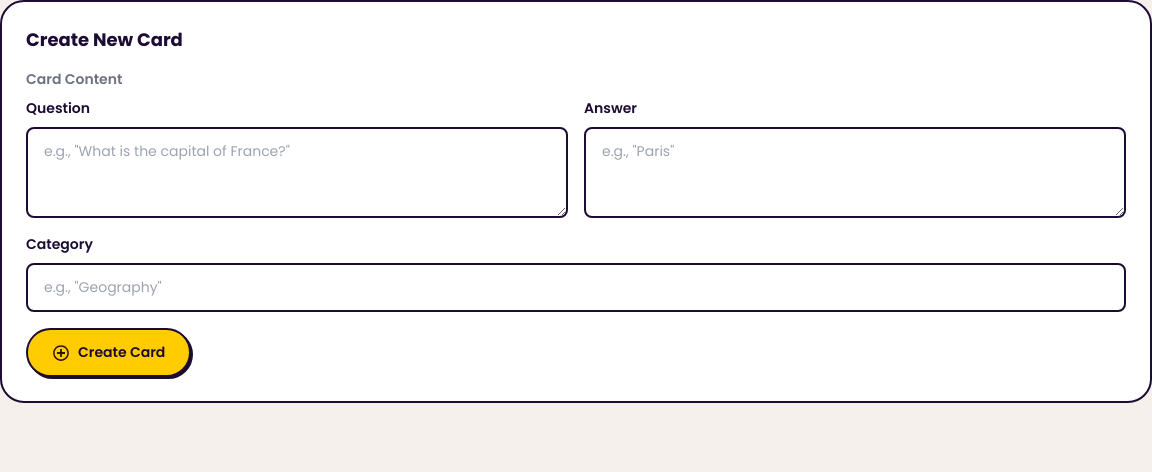
Test: CreateCardForm › shows validation errors when submitting empty form
The width and height of the screenshot is (1152, 472).
Click the button "Create Card": (109, 352) [26, 328, 191, 377]
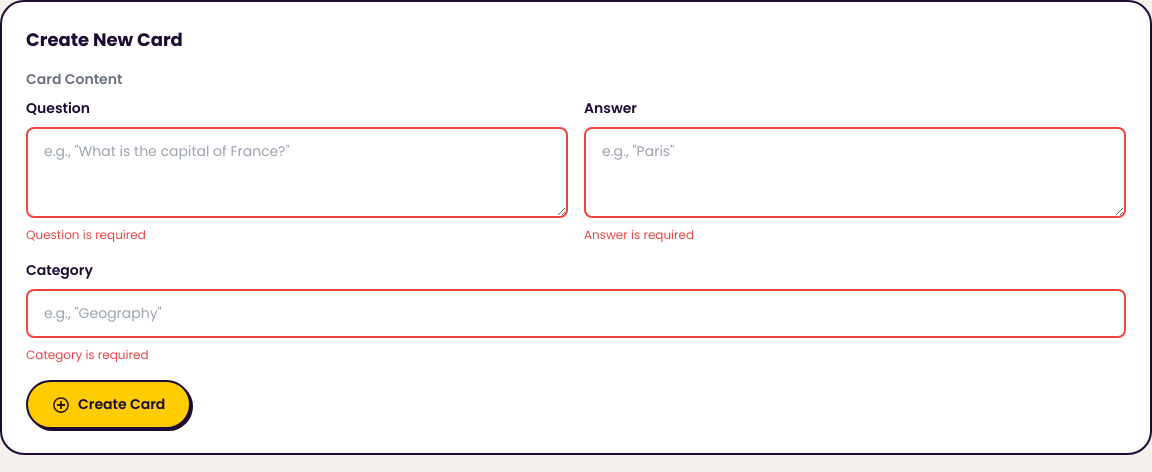
Expected: the text "Question is required" is shown, [26, 226, 146, 243]
Expected: the text "Answer is required" is shown, [584, 226, 694, 243]
Expected: the text "Category is required" is shown, [26, 346, 148, 363]
